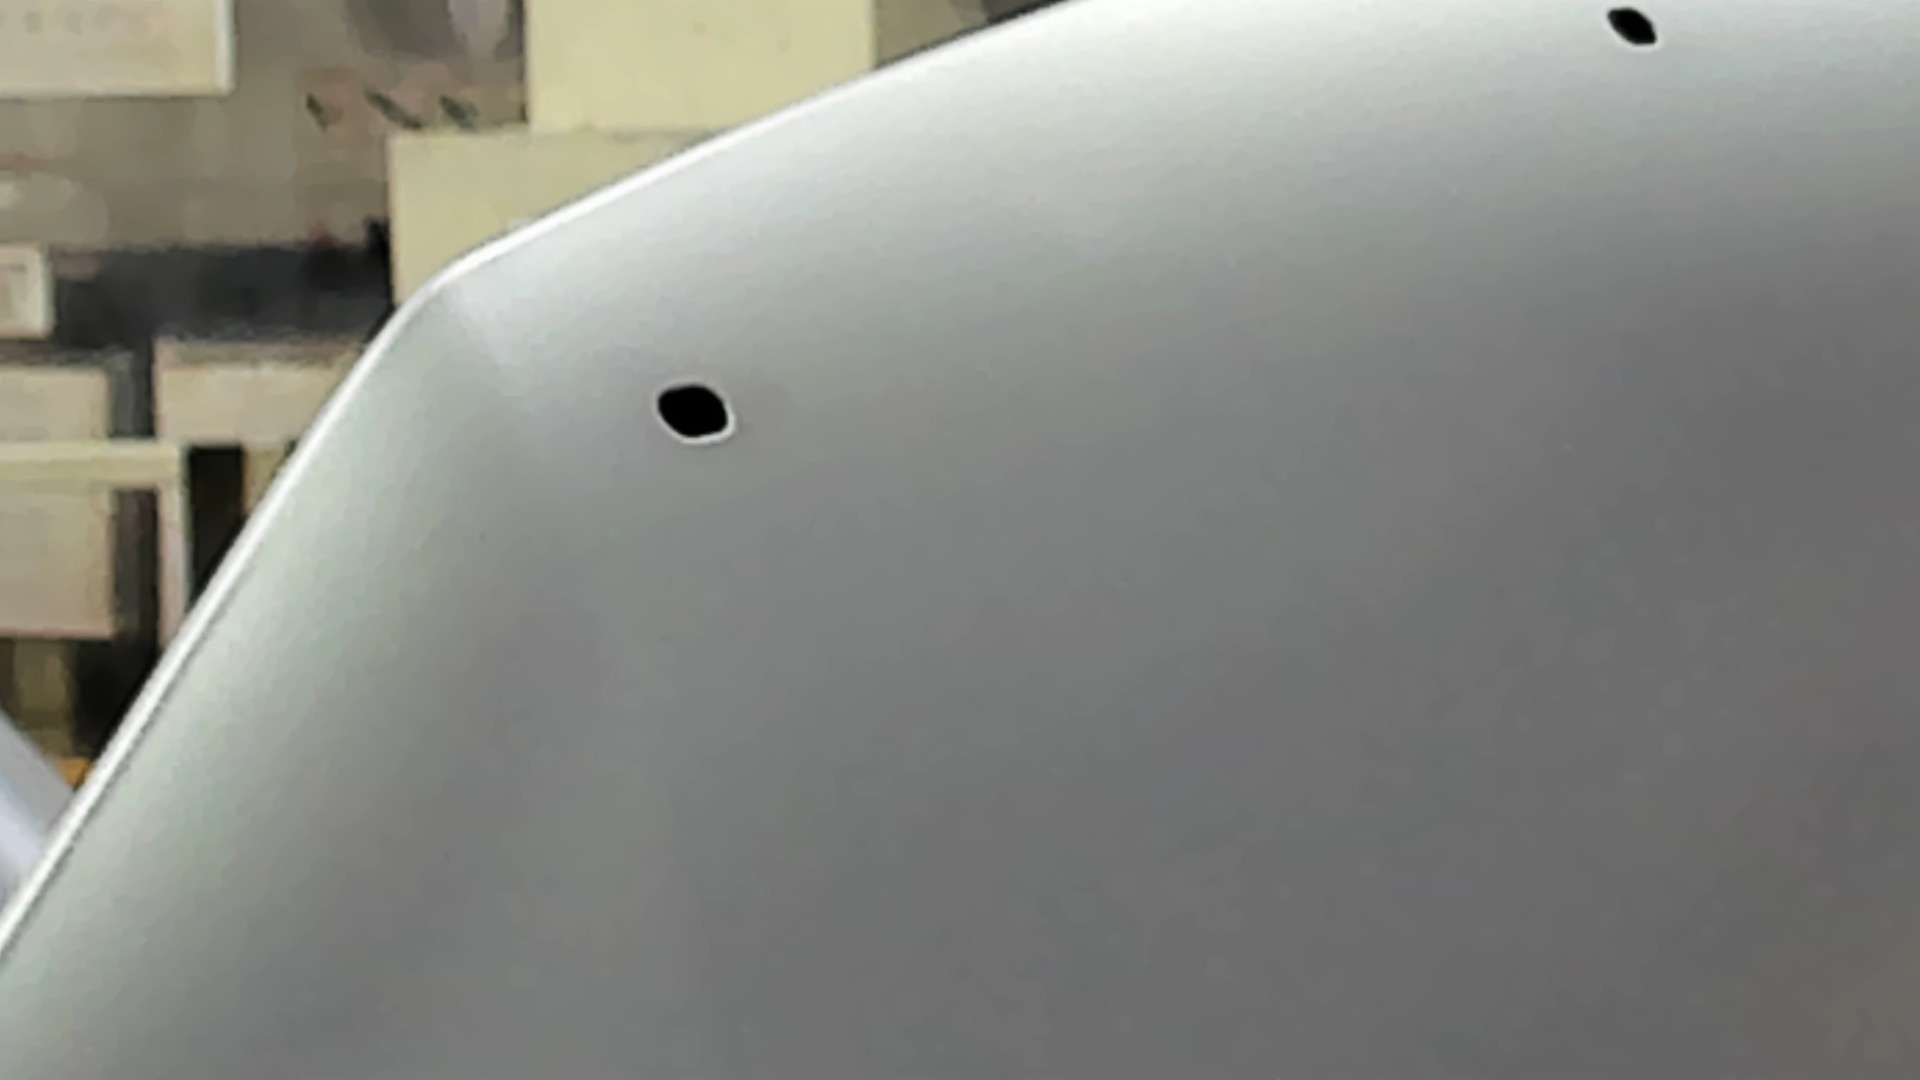amorfo: (647, 376, 742, 455), (1598, 1, 1665, 54)
